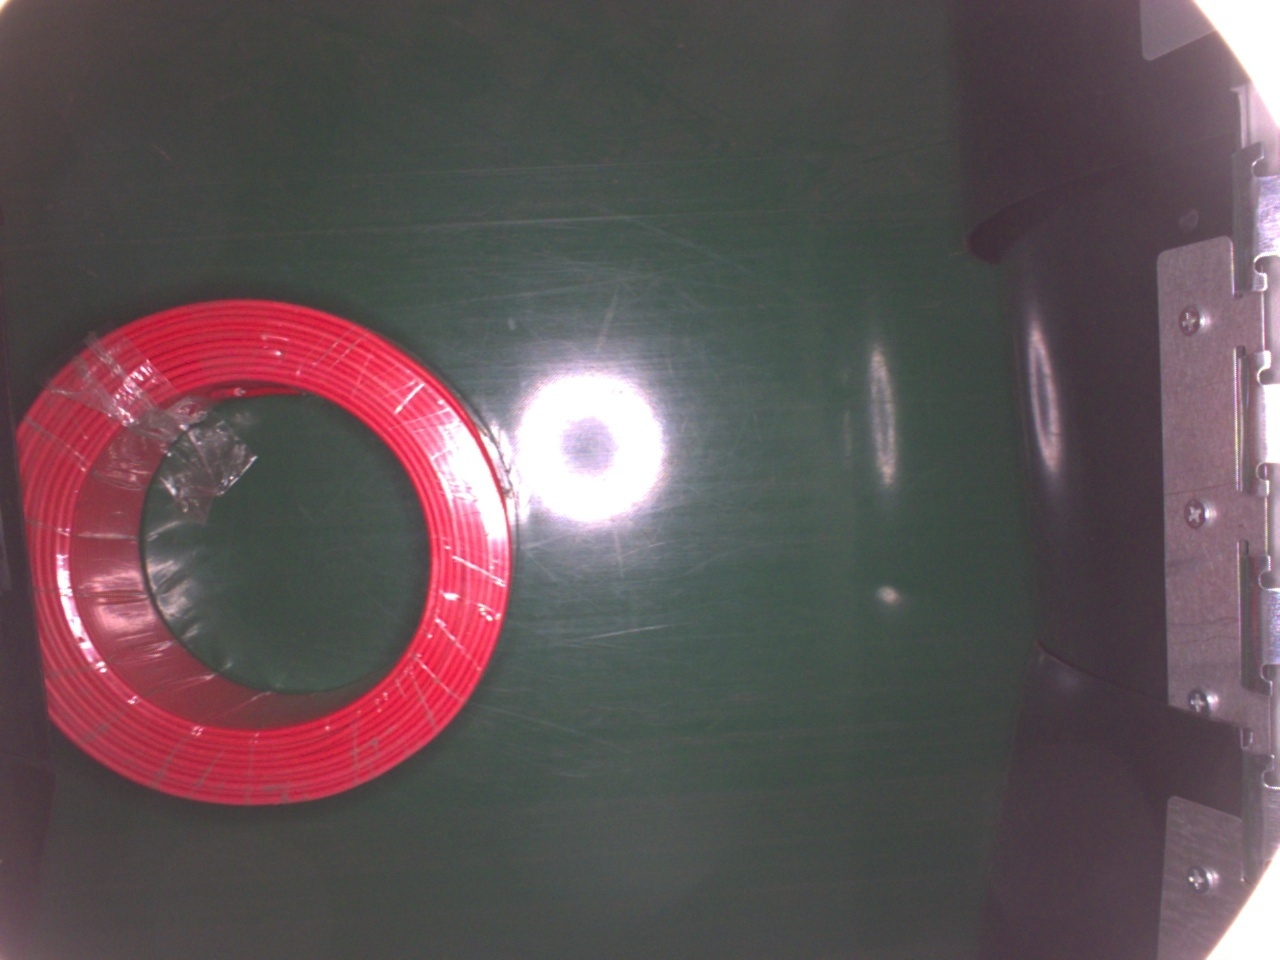red: (13, 297, 514, 815)
